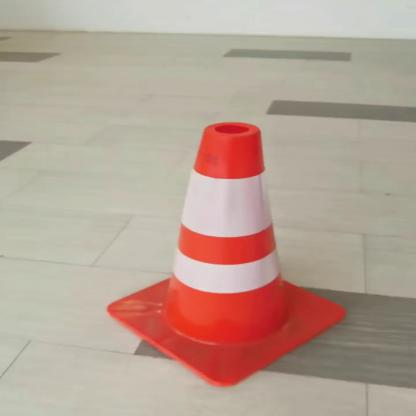cone: (107, 116, 356, 388)
